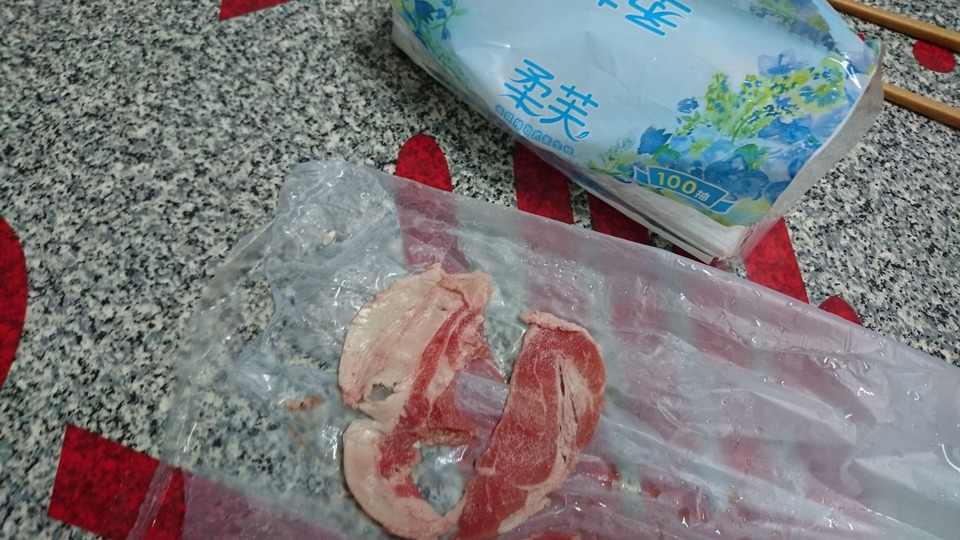restructured meat: (338, 265, 604, 540)
